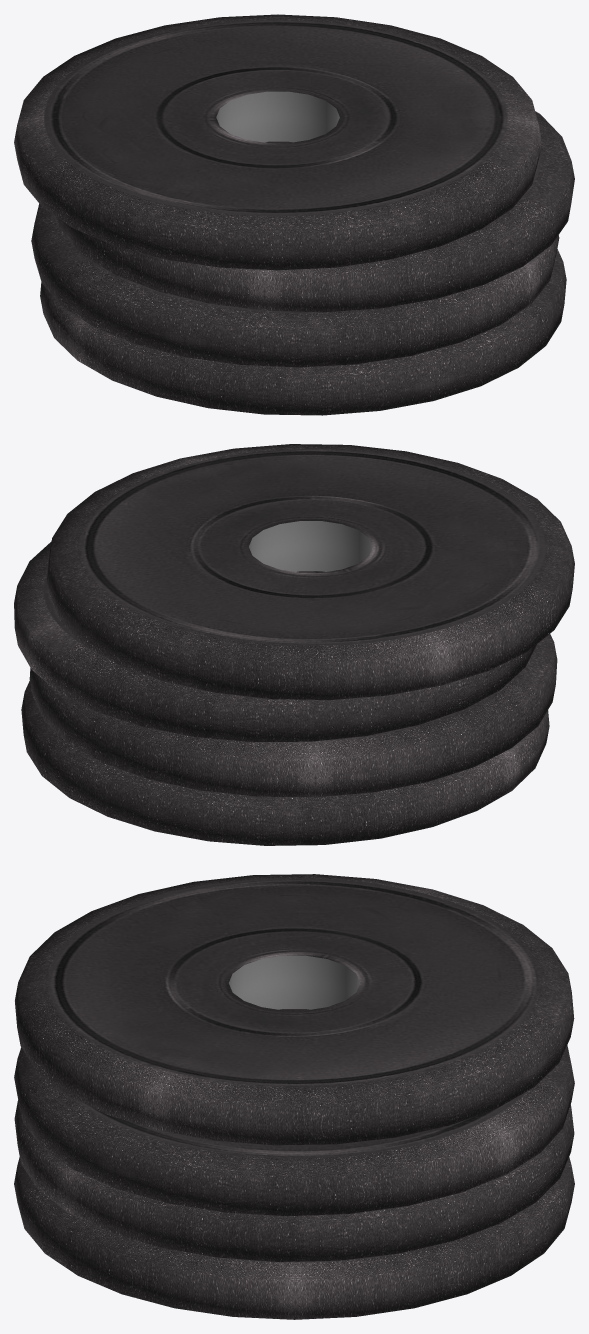
File: Dumbbells01.FBX
The picture shows the model from 3 angles, top to bottom: view 1: azimuth 30°, elevation 25°; view 2: azimuth 150°, elevation 25°; view 3: azimuth 270°, elevation 25°; orthographic projection. The views are drawn at different scales.
Visible parts, largest first — view 1: Barbells01; view 2: Barbells01; view 3: Barbells01.
Part boxes in pixels (x1,y1,x2,y2): Barbells01: (14, 14, 574, 415); Barbells01: (14, 444, 574, 845); Barbells01: (14, 874, 574, 1319).
Bounding box in the file's own units: 460 × 181 × 429.
